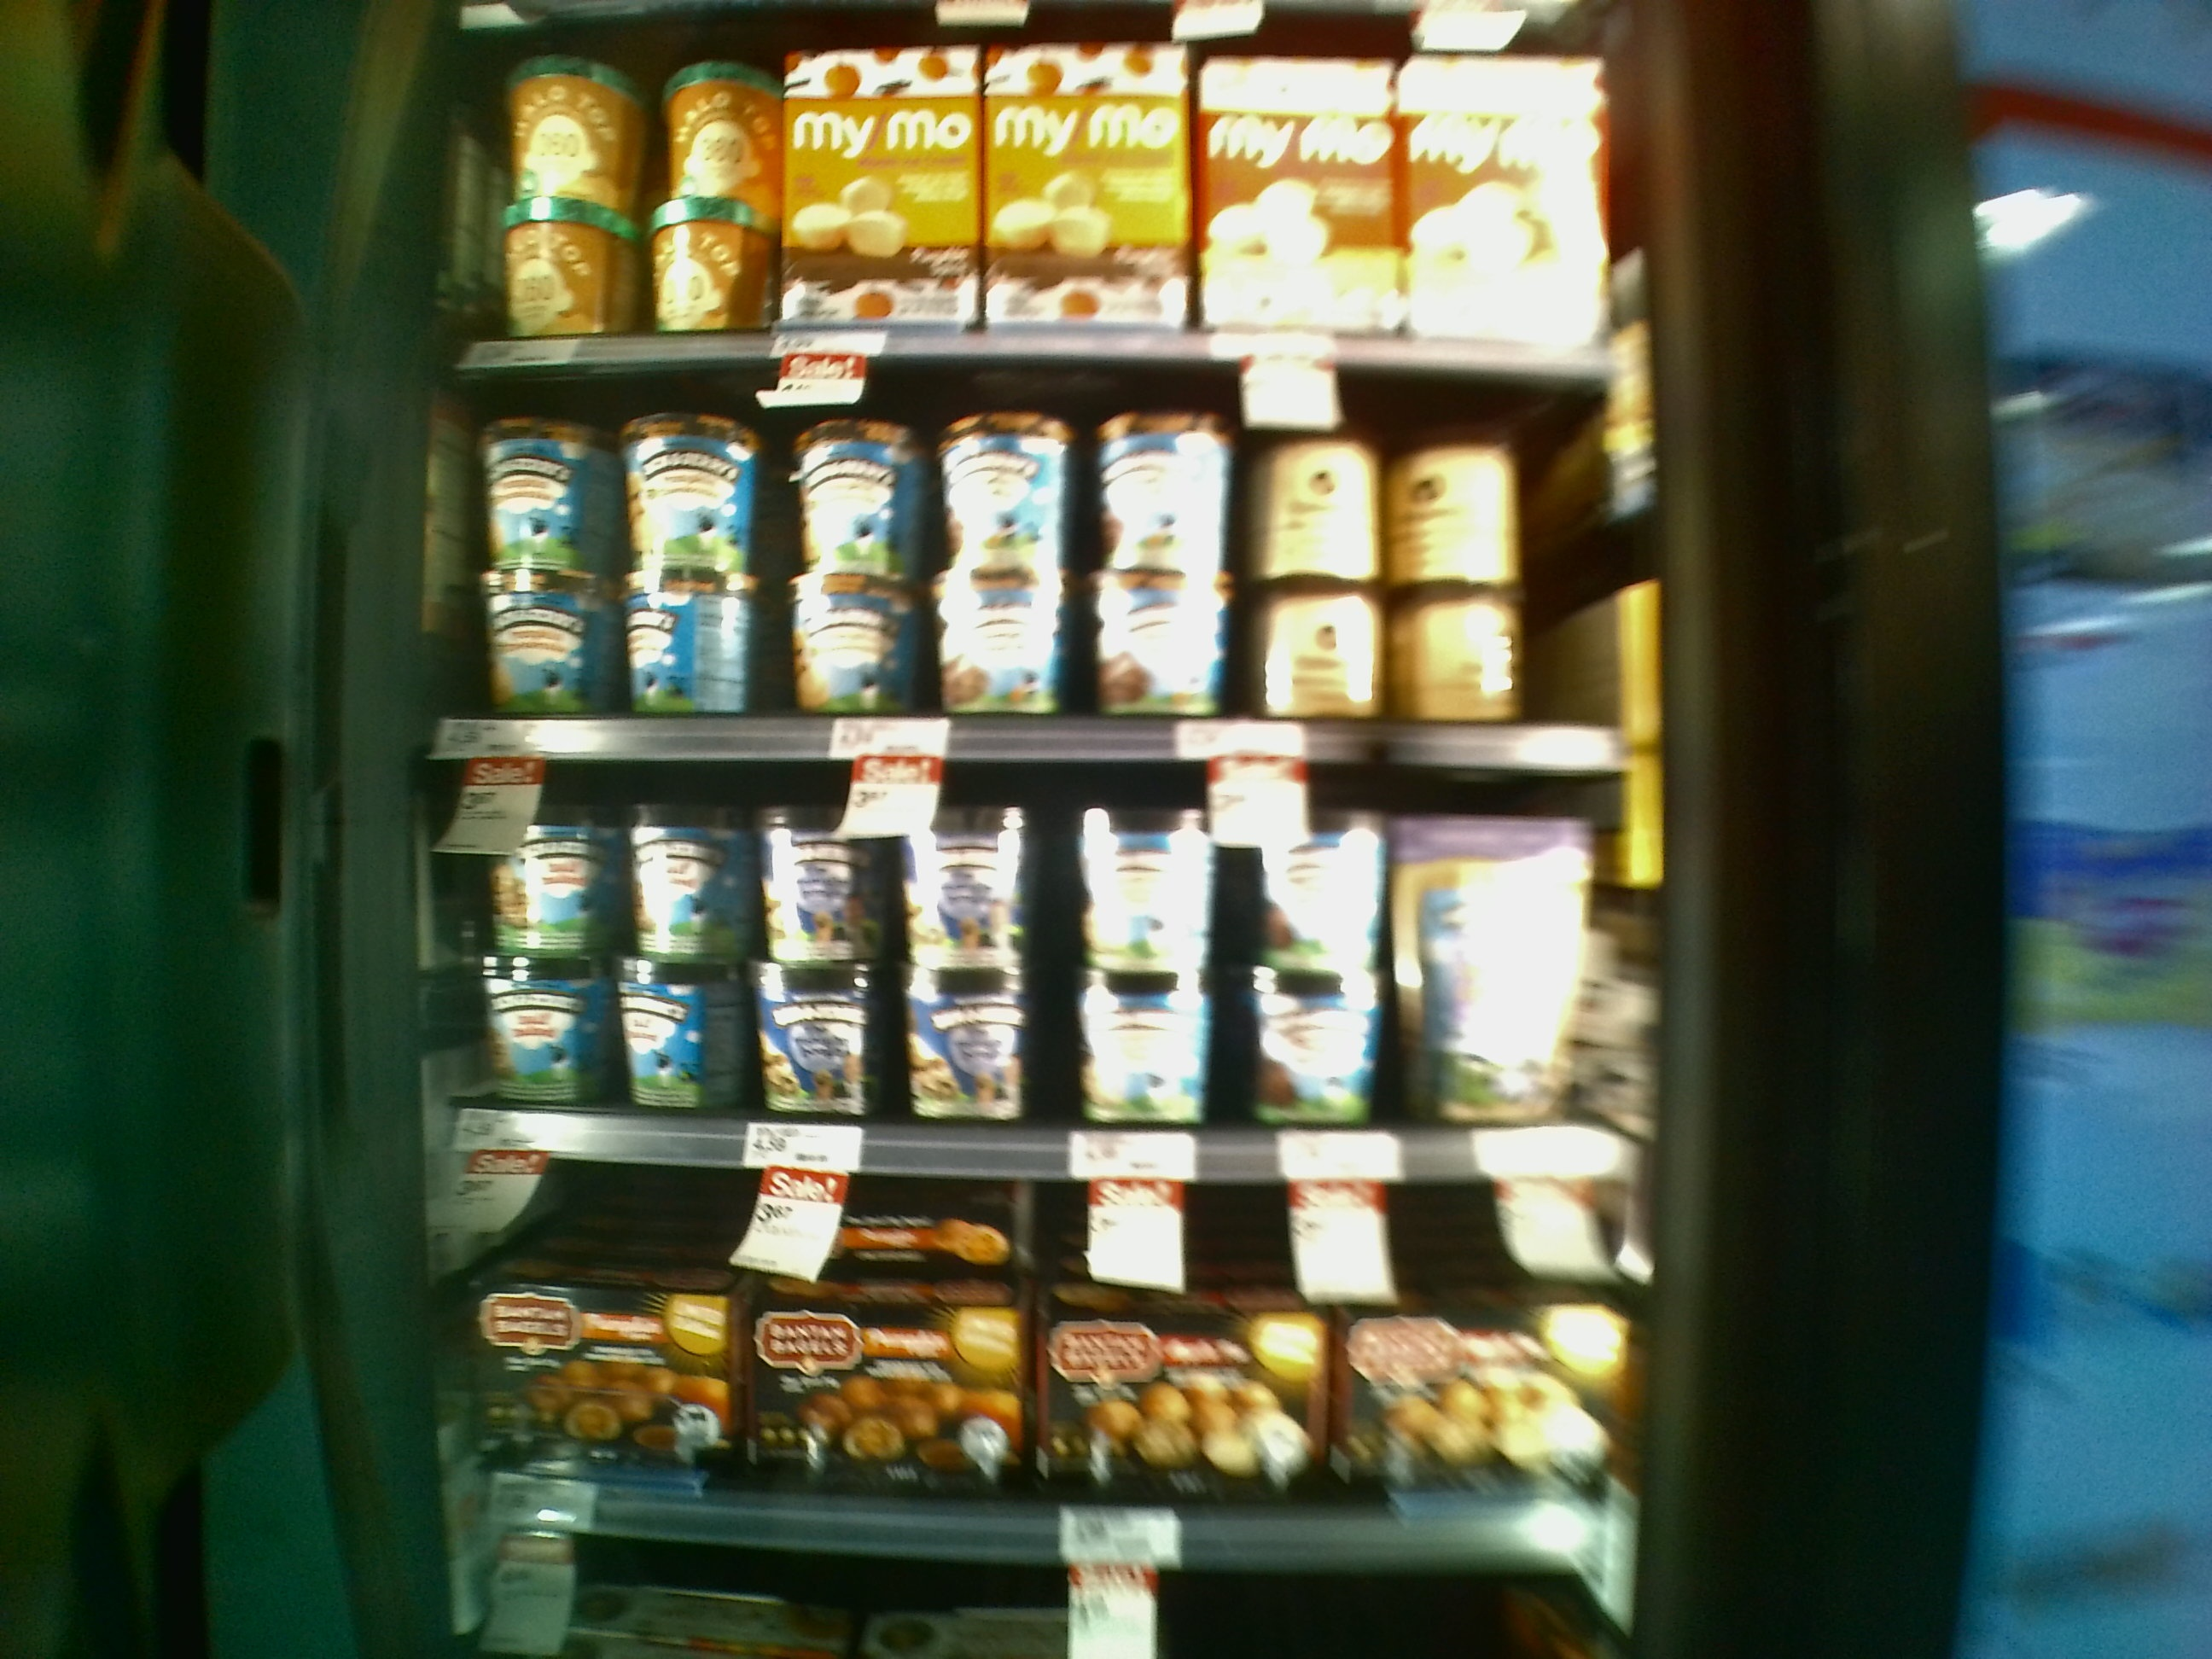shelf: (449, 737, 1646, 1166), (444, 1121, 1609, 1549), (451, 364, 1635, 763)
